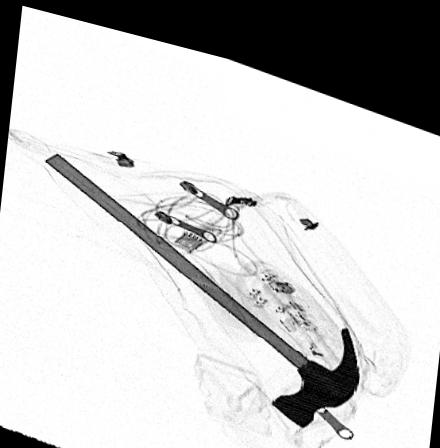Hammer: (44, 150, 361, 414)
